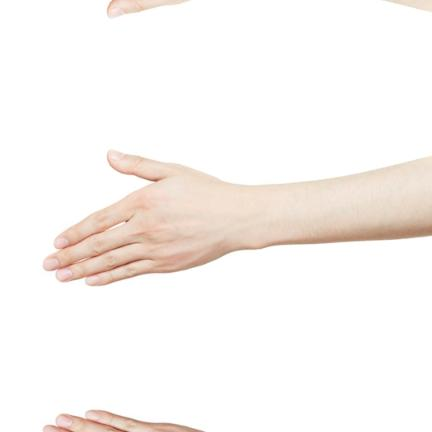Nail: (56, 268, 72, 282), (56, 414, 72, 428), (43, 258, 59, 271), (109, 149, 126, 161), (109, 7, 126, 19), (54, 238, 68, 249), (86, 275, 100, 285), (86, 411, 100, 421), (43, 425, 59, 432)
